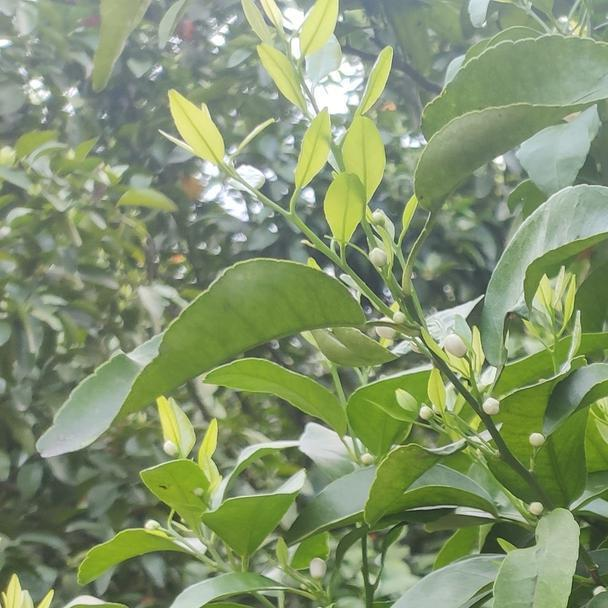shoot: (163, 89, 362, 267), (243, 4, 405, 211)
